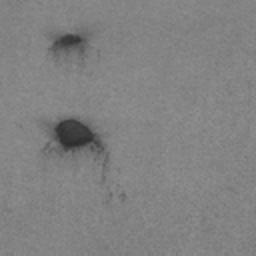Iron sheet ash: (50, 117, 105, 156), (45, 29, 87, 51)
